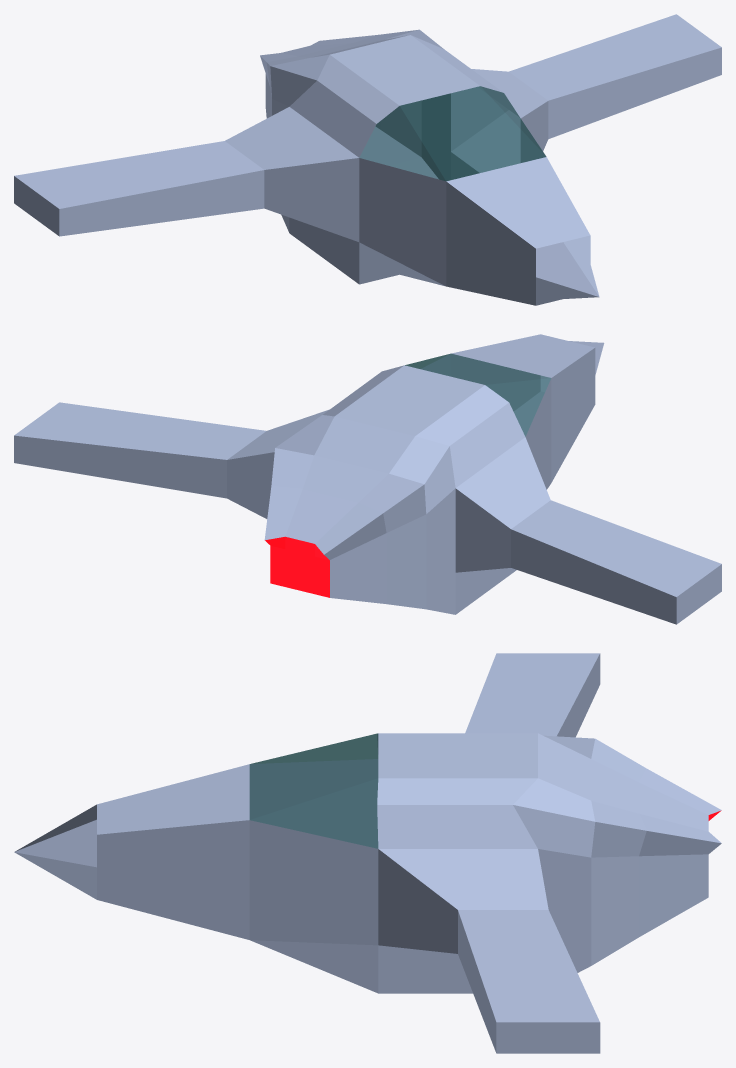
File: ship1.glb
3 renders of one model, top to bottom at view 1: azimuth 30°, elevation 25°; view 2: azimuth 150°, elevation 25°; view 3: azimuth 270°, elevation 25°, orthographic. The views are drawn at different scales.
Parts seen in each view (by area): view 1: Cube; view 2: Cube; view 3: Cube.
Part boxes in pixels (x1,y1,x2,y2): Cube: (14,14,721,305); Cube: (14,334,721,624); Cube: (14,653,721,1053).
Bounding box in the file's own units: 8.21 × 2 × 6.65.
